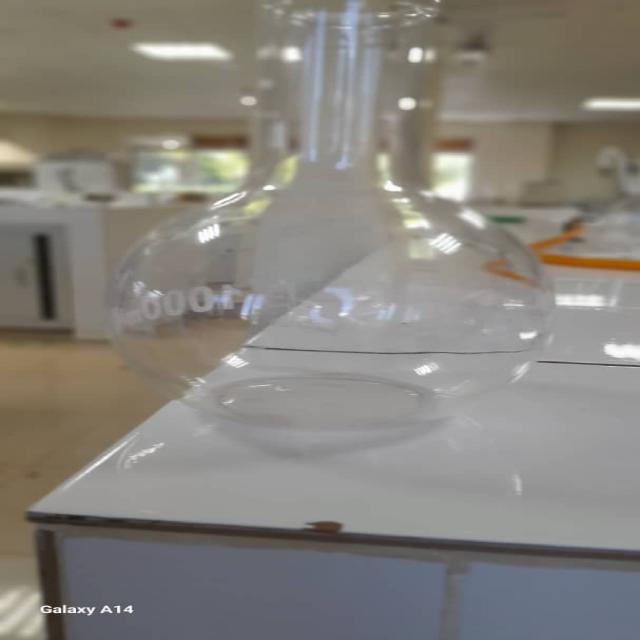Round Bottom Flask: (98, 4, 566, 439)
